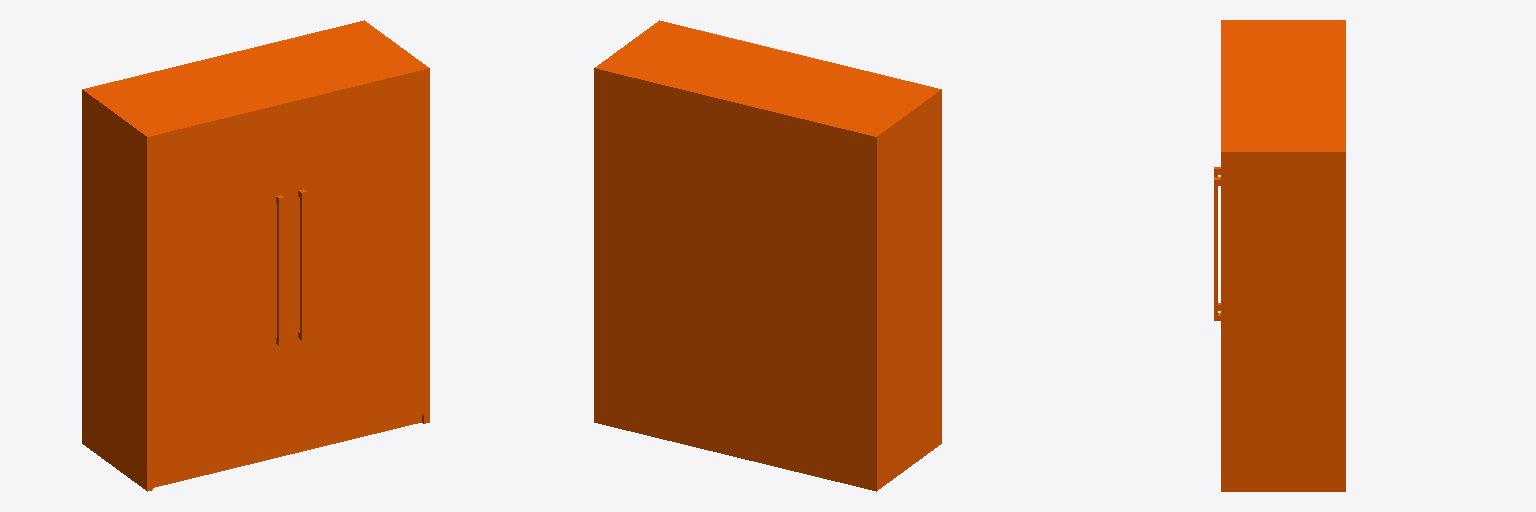
robot.urdf — Cabinet_1ae6d530ee86ee9a4d87481e09b681b3:
<?xml version="1.0" ?>
<robot name="Cabinet_1ae6d530ee86ee9a4d87481e09b681b3">
   <material name="obj_color">
      <color rgba="1.0 0.423529411765 0.0392156862745 1.0"/>
   </material>
   <link name="top">
      <inertial>
         <origin rpy="0.007409358029318833 0.01022384906681561 0.01549306093132267" xyz="3.976534476202195e-05 0.000949472383973125 0.001227025398551688"/>
         <mass value="2.53453844541527"/>
         <inertia ixx="0.01022384910915598" ixy="4.773451425468072e-07" ixz="-4.999032057911405e-08" iyy="0.01549305818882957" iyz="4.671184856466028e-06" izz="0.007409360729471562"/>
      </inertial>
      <visual>
         <origin rpy="0 0 0" xyz="0 0 0"/>
         <geometry>
            <mesh filename="top_watertight_tiny.stl" scale="1 1 1"/>
         </geometry>
         <material name="obj_color"/>
      </visual>
      <collision>
         <origin rpy="0 0 0" xyz="0 0 0"/>
         <geometry>
            <mesh filename="top_watertight_tiny.obj" scale="1 1 1"/>
         </geometry>
      </collision>
   </link>
   <link name="bottom">
      <inertial>
         <origin rpy="1.633333333199431e-08 1.633333333199431e-08 1.633333333362855e-08" xyz="0.3464080000000008 0.3464080000000008 0.3464080000000008"/>
         <mass value="0.0009800000000000017"/>
         <inertia ixx="1.633333333253906e-08" ixy="5.447480642029219e-19" ixz="5.447480642029219e-19" iyy="1.633333333253906e-08" iyz="5.447480642029219e-19" izz="1.633333333253906e-08"/>
      </inertial>
      <visual>
         <origin rpy="0 0 0" xyz="0 0 0"/>
         <geometry>
            <mesh filename="bottom_watertight_tiny.stl" scale="1 1 1"/>
         </geometry>
         <material name="obj_color"/>
      </visual>
   </link>
   <link name="world"/>
   <joint name="world_to_base" type="fixed">
      <origin xyz="0 0 0"/>
      <axis xyz="0 0 0"/>
      <parent link="world"/>
      <child link="bottom"/>
   </joint>
   <joint name="rotation" type="revolute">
      <origin xyz="0 0 0"/>
      <axis xyz="0 0 -1"/>
      <parent link="bottom"/>
      <child link="top"/>
      <dynamics damping="1.0" friction="1.0"/>
      <limit effort="0.1" velocity="0.1" lower="0" upper="0.001"/>
   </joint>
</robot>

--- Facts derived from the render (not from the file) ---
Views: 3 orthographic renders of the robot side by side, from view 1: azimuth 30°, elevation 25°; view 2: azimuth 150°, elevation 25°; view 3: azimuth 270°, elevation 25°.
Model Cabinet_1ae6d530ee86ee9a4d87481e09b681b3 with 3 links and 2 joints (1 revolute, 1 fixed), rooted at world, posed every joint at zero.
Visible links, largest first — view 1: top; view 2: top; view 3: top.
Link boxes in pixels (box(x1,y1,x2,y2)): top: box(82, 20, 429, 491); top: box(594, 20, 941, 491); top: box(1214, 20, 1345, 491).
Size in the robot's own frame: 0.1741 by 0.0731 by 0.2089 metres.
Meshes: 2 distinct files referenced, 1 mesh visuals loaded (1 binary STL); not drawn: 1 (reference not matched to a file when rendering).
